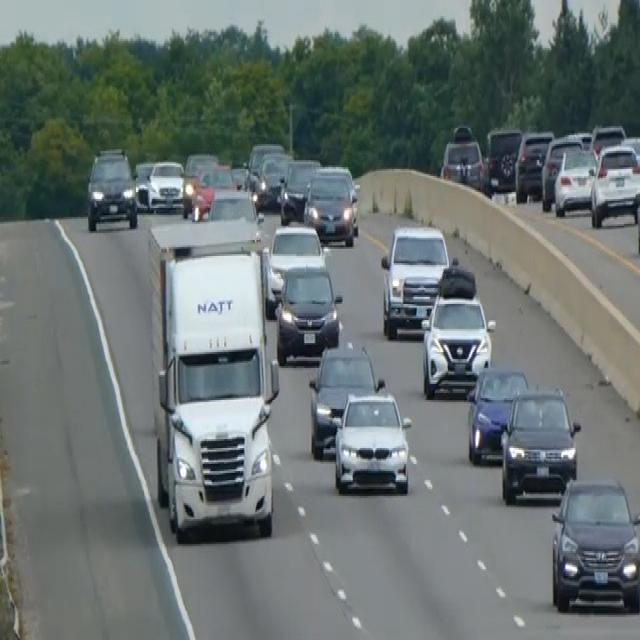car: (549, 475, 639, 613), (499, 384, 581, 503), (307, 339, 384, 458), (332, 386, 412, 494), (379, 220, 450, 338), (421, 292, 494, 396), (274, 260, 343, 364), (466, 363, 529, 464), (264, 220, 325, 313), (85, 146, 138, 231), (303, 164, 358, 245), (589, 140, 639, 228), (540, 132, 583, 210), (553, 144, 597, 217), (183, 160, 235, 219), (514, 128, 553, 203), (278, 156, 320, 224), (440, 132, 485, 190), (485, 124, 522, 194), (270, 220, 323, 266), (253, 149, 293, 208), (181, 149, 219, 210), (207, 183, 262, 224), (147, 156, 184, 212), (246, 140, 284, 180), (589, 121, 626, 160), (132, 158, 154, 210), (634, 178, 639, 258)
lorry: (146, 217, 280, 540)
